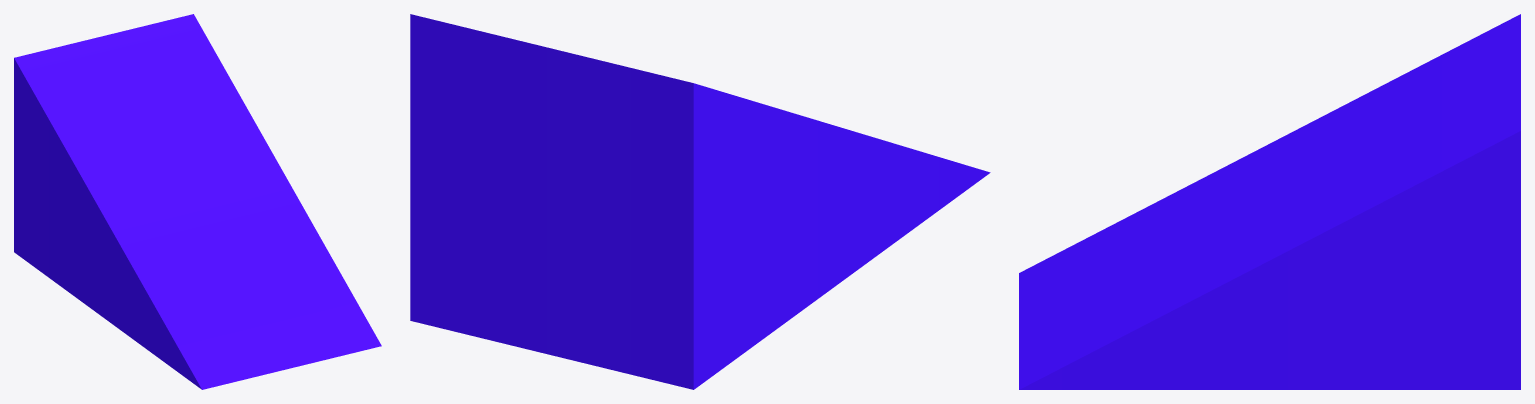
Rendered from BaseRamp.006.glb.
3 renders of one model, left to right at view 1: azimuth 30°, elevation 25°; view 2: azimuth 150°, elevation 25°; view 3: azimuth 270°, elevation 25°, orthographic. The views are drawn at different scales.
Visible parts, largest first — view 1: BaseRamp.006; view 2: BaseRamp.006; view 3: BaseRamp.006.
Part boxes in pixels (x1,y1,x2,y2): BaseRamp.006: (14,14,381,389); BaseRamp.006: (410,14,990,389); BaseRamp.006: (1019,14,1520,389).
Size of what is drawn, in the model's own units: 1.85 by 1.91 by 3.35.
1 material, 1 textured.
